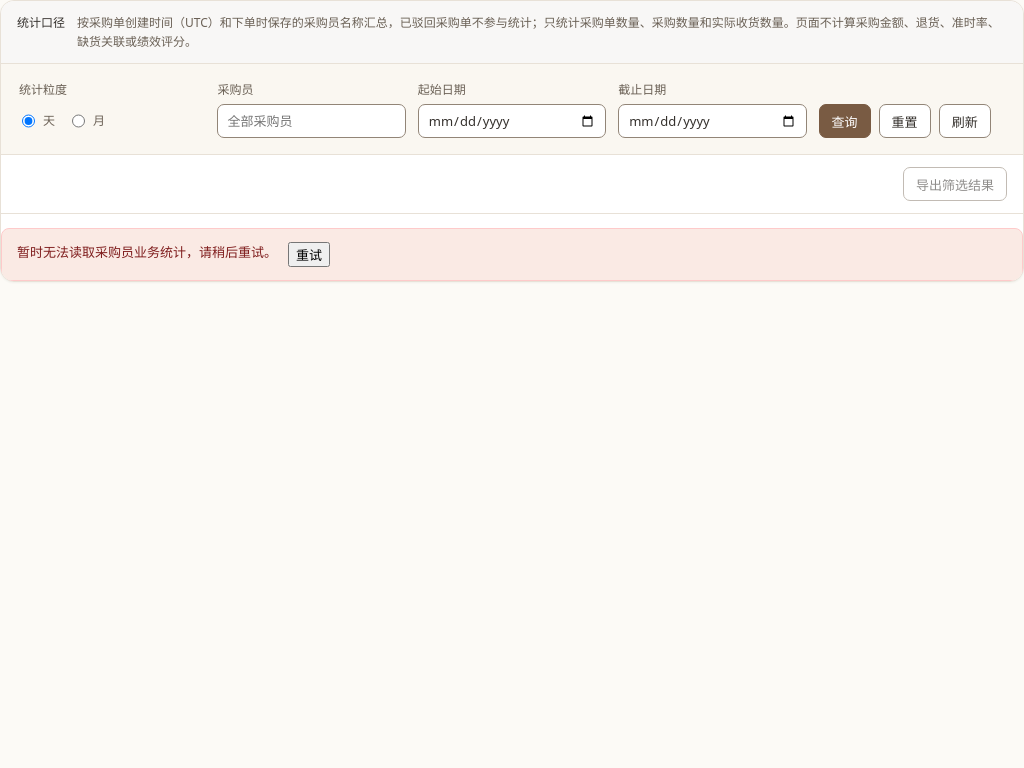
Test: purchaser performance page › validates date order and recovers from failed loads
This screenshot has width=1024, height=768.
Expected: the message shows "暂时无法读取采购员业务统计", [17,243,277,261]
Click the button "重试" at (309, 255), box [288,242,330,267]
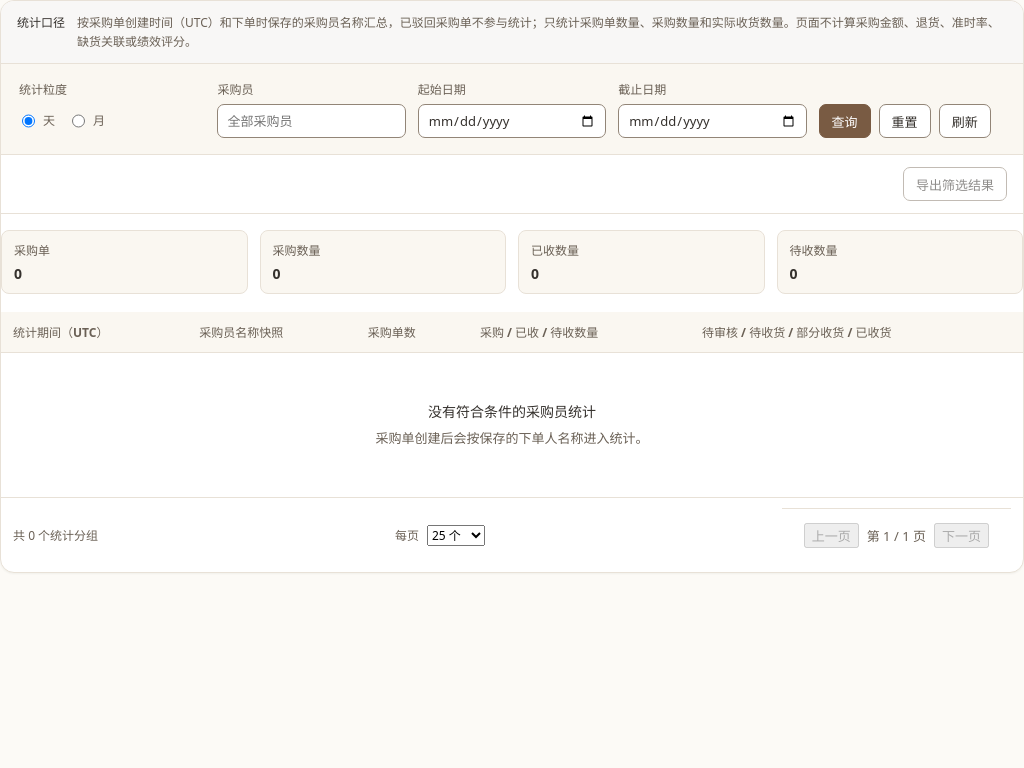
Type "2026-08-02" into the date field labelled "起始日期" at (512, 121), box [418,104,606,138]
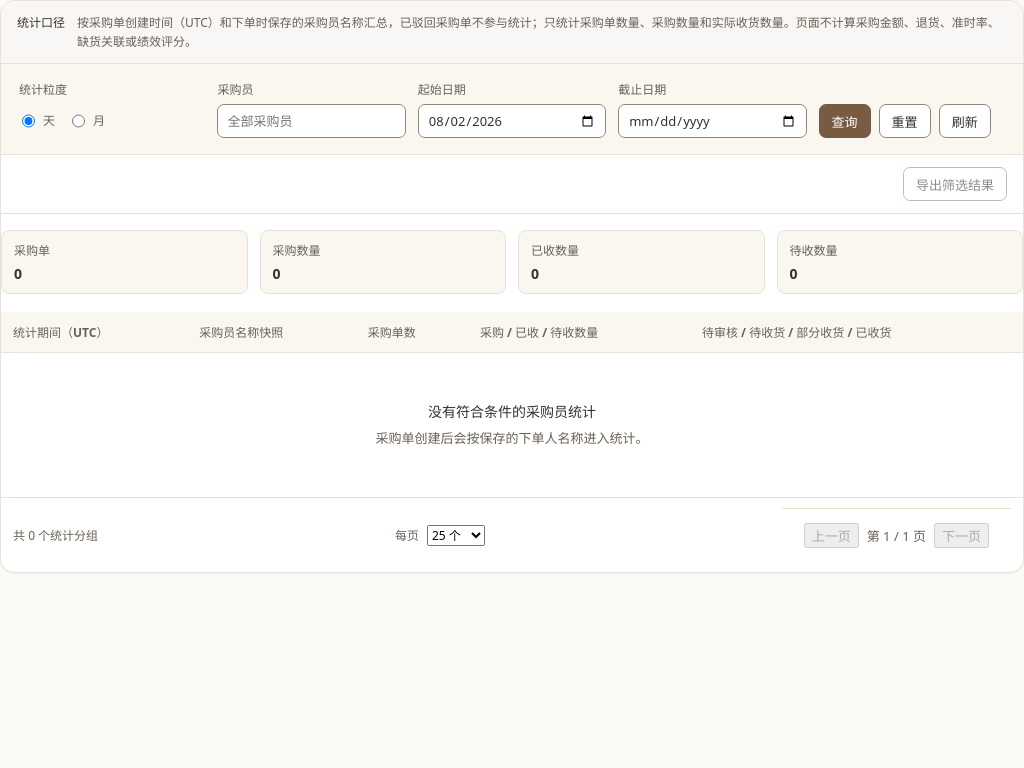
Type "2026-08-01" into the date field labelled "截止日期" at (712, 121), box [618,104,807,138]
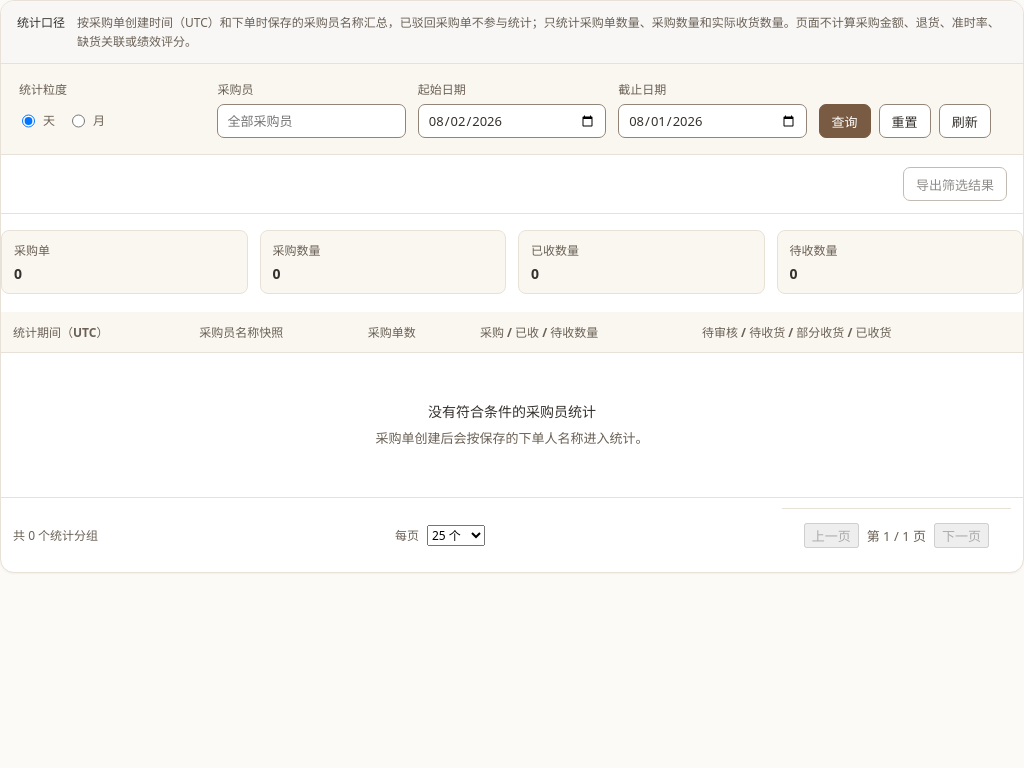
Click the button "查询" at (845, 121), box [819,104,871,138]
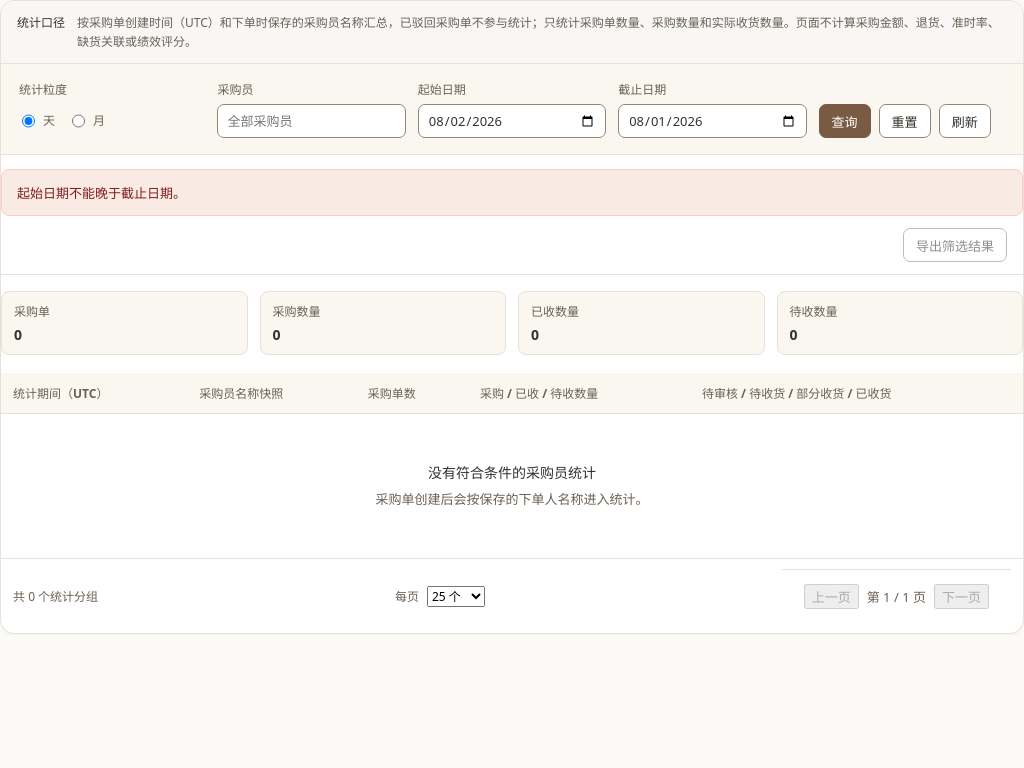
Result: the message "起始日期不能晚于截止日期。" is shown at [1,169,1023,216]
